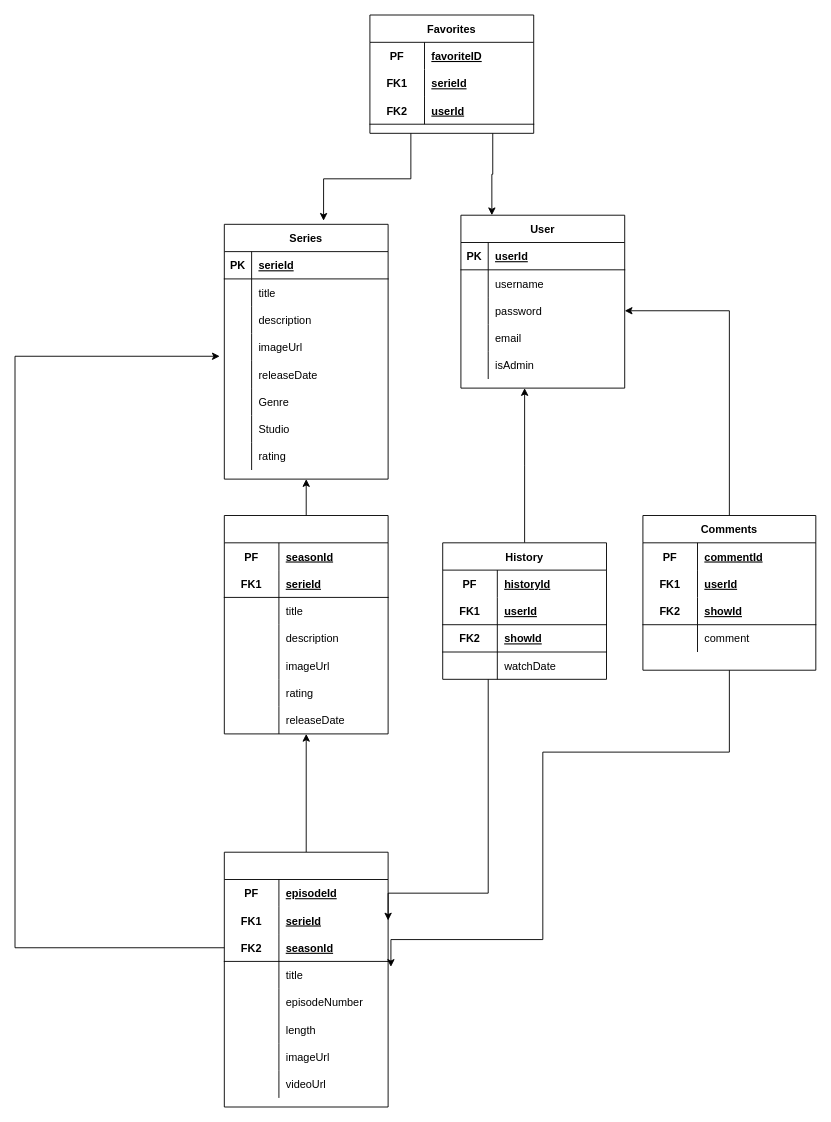
The diagram is 831 pixels wide and 1122 high, and some of its shapes have lost their labels. Here are the shapes that lost their labels. From the top down, the box of each, then its label:
(223, 515, 388, 734): Seasons
(223, 851, 388, 1107): Episodes
